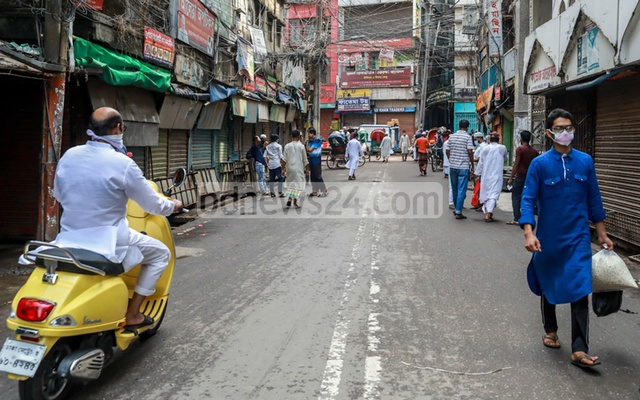rickshaw: (325, 131, 365, 170), (427, 127, 450, 172)
scooter: (1, 166, 187, 400)
